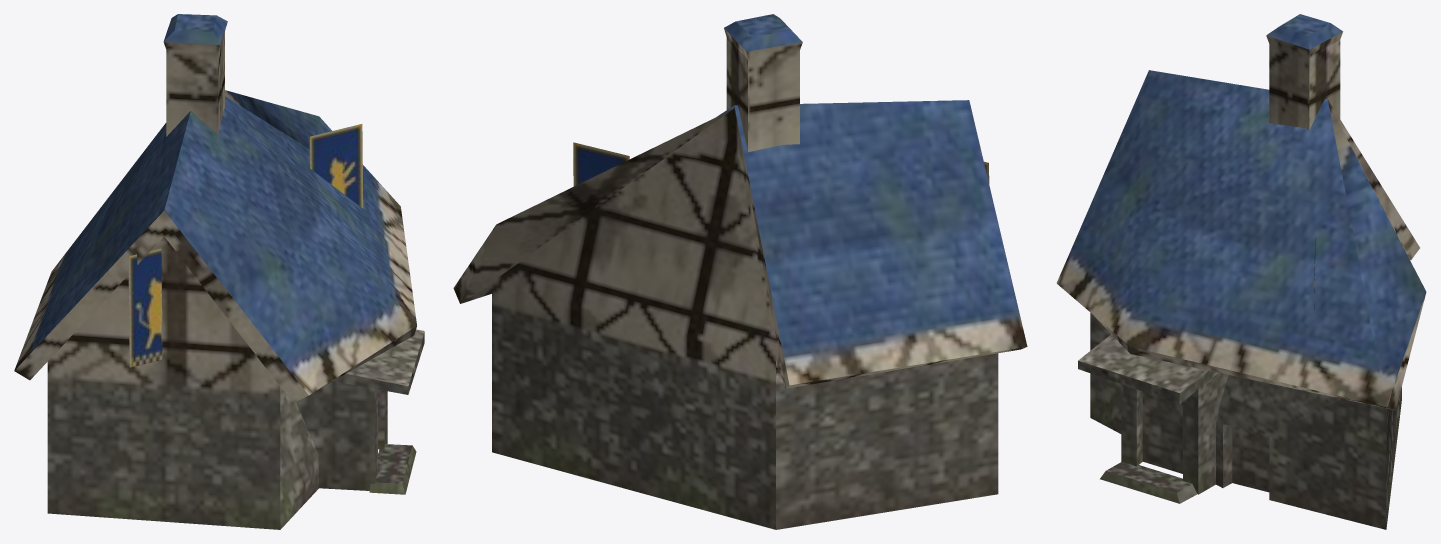
Rendered from house_13_card_lod2.glb.
The picture shows the model from 3 angles, left to right: view 1: azimuth 30°, elevation 25°; view 2: azimuth 150°, elevation 25°; view 3: azimuth 270°, elevation 25°; orthographic projection. The views are drawn at different scales.
Parts seen in each view (by area): view 1: house_13_game_card; view 2: house_13_game_card; view 3: house_13_game_card.
Boxes of the visible parts, x1,y1,x2,y2 form: house_13_game_card: (14, 14, 424, 529); house_13_game_card: (453, 14, 1027, 529); house_13_game_card: (1056, 14, 1426, 529).
Size of the model in its own units: 12.23 by 10.62 by 8.79.
Materials: 1 (1 with a texture image).
